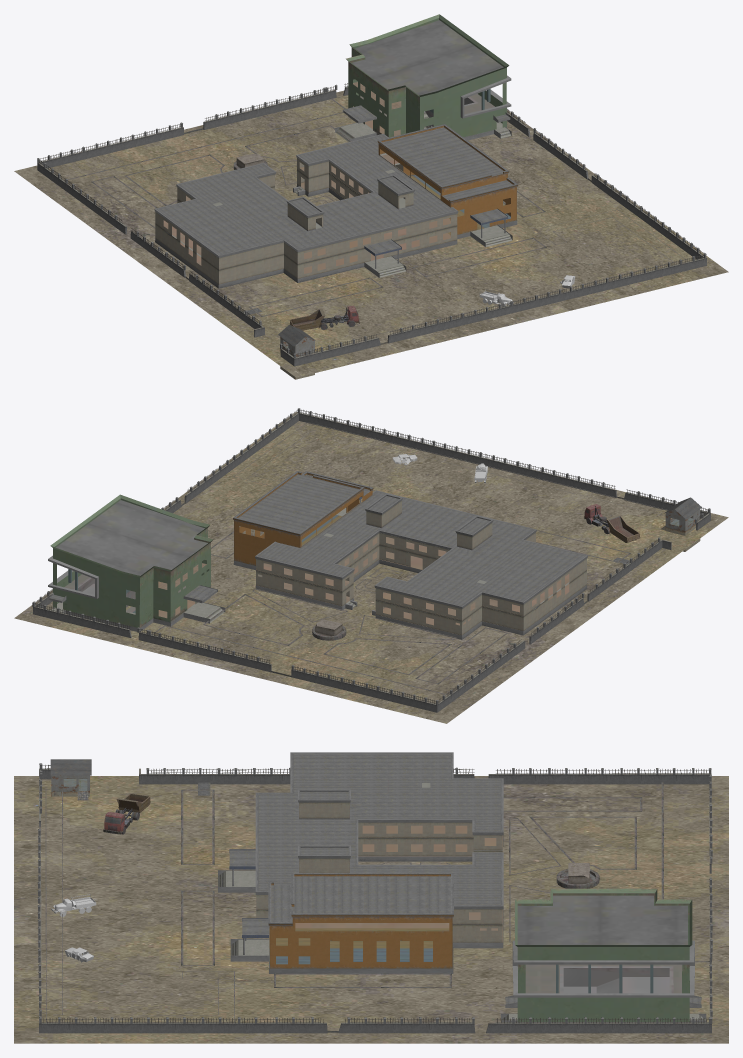
The picture shows the model from 3 angles, top to bottom: view 1: azimuth 30°, elevation 25°; view 2: azimuth 150°, elevation 25°; view 3: azimuth 270°, elevation 25°; orthographic projection. The views are drawn at different scales.
Parts seen in each view (by area): view 1: Plane, Mesh_0031.rip_Mesh_0031.rip_mesh0000.001, Mesh_0033.rip_Mesh_0033.rip_mesh0000.001, Mesh_0030.rip_Mesh_0030.rip_mesh0000.001, Mesh_0005.rip_Mesh_0005.rip_mesh0000.001, Mesh_0019.rip_Mesh_0019.rip_mesh0000.001, Mesh_0006.rip_Mesh_0006.rip_mesh0000.001; view 2: Plane, Mesh_0031.rip_Mesh_0031.rip_mesh0000.001, Mesh_0033.rip_Mesh_0033.rip_mesh0000.001, Mesh_0030.rip_Mesh_0030.rip_mesh0000.001, Mesh_0005.rip_Mesh_0005.rip_mesh0000.001, Mesh_0006.rip_Mesh_0006.rip_mesh0000.001, Mesh_0019.rip_Mesh_0019.rip_mesh0000.001; view 3: Plane, Mesh_0031.rip_Mesh_0031.rip_mesh0000.001, Mesh_0033.rip_Mesh_0033.rip_mesh0000.001, Mesh_0030.rip_Mesh_0030.rip_mesh0000.001, Mesh_0005.rip_Mesh_0005.rip_mesh0000.001, Mesh_0006.rip_Mesh_0006.rip_mesh0000.001, Mesh_0019.rip_Mesh_0019.rip_mesh0000.001, Mesh_0027.rip.002_Mesh_0027.rip_mesh0000.001.
Boxes of the visible parts, <box> form: Plane: <box>14,90,728,377</box>; Mesh_0031.rip_Mesh_0031.rip_mesh0000.001: <box>154,124,518,288</box>; Mesh_0033.rip_Mesh_0033.rip_mesh0000.001: <box>335,14,511,141</box>; Mesh_0030.rip_Mesh_0030.rip_mesh0000.001: <box>158,135,454,273</box>; Mesh_0005.rip_Mesh_0005.rip_mesh0000.001: <box>37,86,706,366</box>; Mesh_0019.rip_Mesh_0019.rip_mesh0000.001: <box>290,305,359,330</box>; Mesh_0006.rip_Mesh_0006.rip_mesh0000.001: <box>278,325,315,379</box>; Plane: <box>14,412,728,723</box>; Mesh_0031.rip_Mesh_0031.rip_mesh0000.001: <box>233,471,587,639</box>; Mesh_0033.rip_Mesh_0033.rip_mesh0000.001: <box>48,494,225,631</box>; Mesh_0030.rip_Mesh_0030.rip_mesh0000.001: <box>259,492,584,625</box>; Mesh_0005.rip_Mesh_0005.rip_mesh0000.001: <box>33,413,710,712</box>; Mesh_0006.rip_Mesh_0006.rip_mesh0000.001: <box>661,497,701,551</box>; Mesh_0019.rip_Mesh_0019.rip_mesh0000.001: <box>584,504,640,542</box>; Plane: <box>14,776,728,1043</box>; Mesh_0031.rip_Mesh_0031.rip_mesh0000.001: <box>218,752,503,973</box>; Mesh_0033.rip_Mesh_0033.rip_mesh0000.001: <box>501,888,706,1022</box>; Mesh_0030.rip_Mesh_0030.rip_mesh0000.001: <box>258,753,502,942</box>; Mesh_0005.rip_Mesh_0005.rip_mesh0000.001: <box>39,768,711,1033</box>; Mesh_0006.rip_Mesh_0006.rip_mesh0000.001: <box>50,759,91,800</box>; Mesh_0019.rip_Mesh_0019.rip_mesh0000.001: <box>103,793,150,834</box>; Mesh_0027.rip.002_Mesh_0027.rip_mesh0000.001: <box>51,894,96,916</box>.
Bounding box in the file's own units: 109 × 20.03 × 123.
